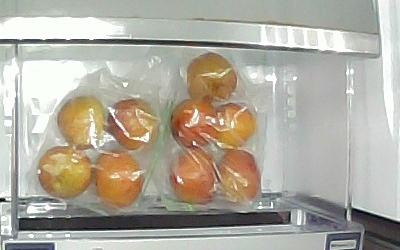prune_vinyl: (37, 147, 94, 201), (170, 150, 220, 207), (185, 51, 237, 105), (108, 99, 159, 152), (212, 149, 260, 205), (94, 151, 143, 205), (58, 95, 105, 148), (171, 99, 218, 148)
